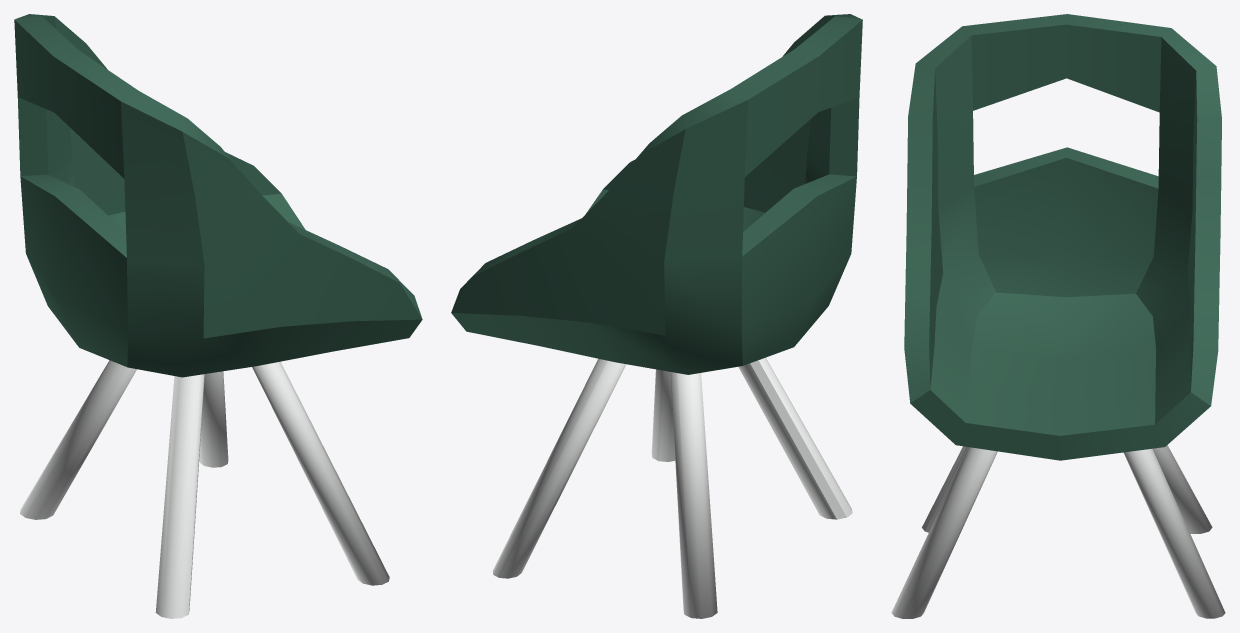
File: yassisandalye.fbx
3 views of the same model, side by side, from view 1: azimuth 30°, elevation 25°; view 2: azimuth 150°, elevation 25°; view 3: azimuth 270°, elevation 25° (orthographic). The views are drawn at different scales.
Parts seen in each view (by area): view 1: Cube.011; view 2: Cube.011; view 3: Cube.011.
Part boxes in pixels (<box>): Cube.011: <box>14,14,422,618</box>; Cube.011: <box>451,14,862,618</box>; Cube.011: <box>891,14,1225,618</box>.
Size of the model in its own units: 149 by 150 by 244.
